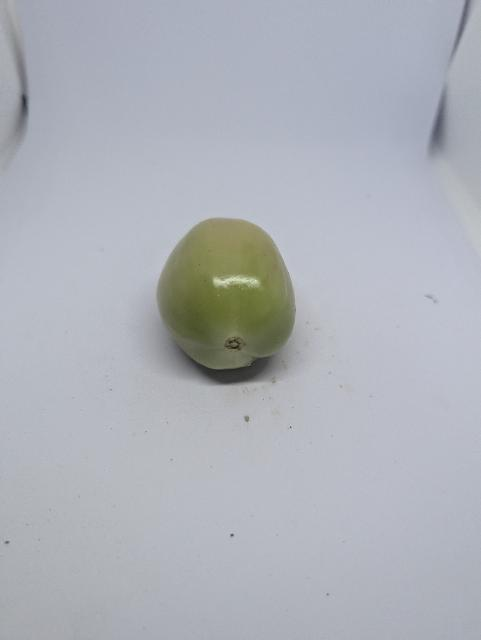green: (154, 214, 303, 372)
